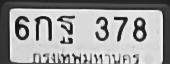3: (94, 15, 108, 40)
6: (14, 15, 28, 39)
7: (113, 15, 127, 41)
8: (132, 16, 146, 41)
A01: (34, 14, 51, 40)
A16: (56, 14, 75, 40)
BKK: (29, 50, 141, 64)
